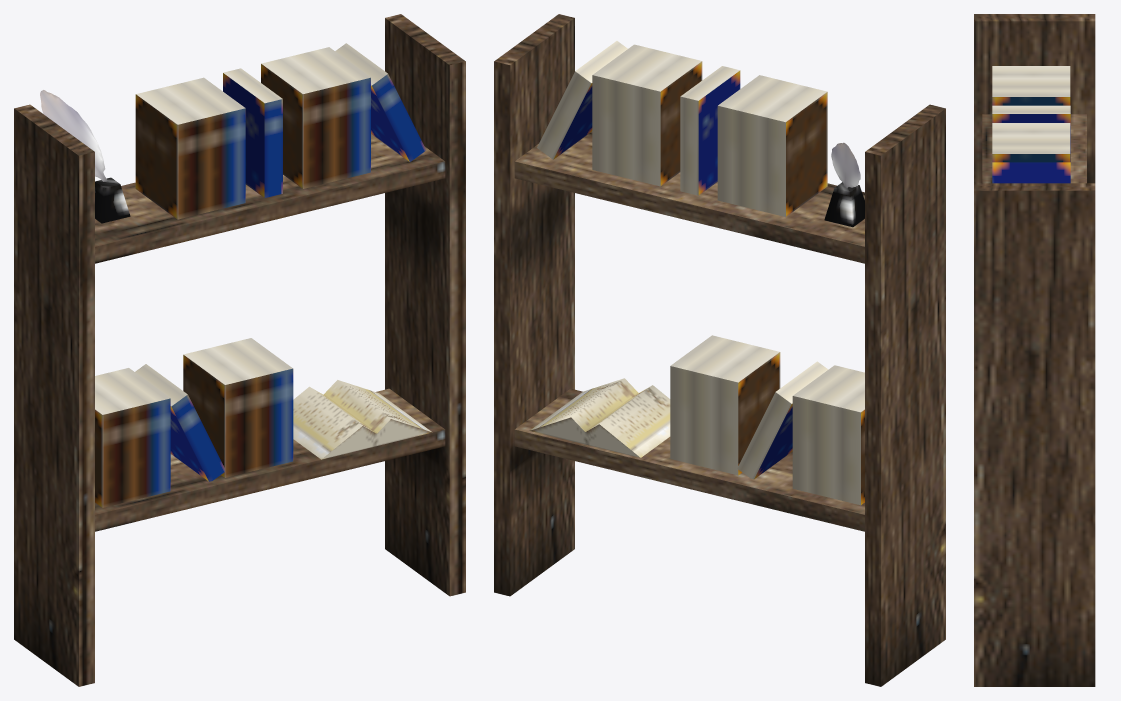
3 views of the same model, side by side, from view 1: azimuth 30°, elevation 25°; view 2: azimuth 150°, elevation 25°; view 3: azimuth 270°, elevation 25° (orthographic). The views are drawn at different scales.
Parts seen in each view (by area): view 1: a96; view 2: a96; view 3: a96.
Part boxes in pixels (<box>): a96: <box>14,14,465,686</box>; a96: <box>494,14,945,686</box>; a96: <box>974,14,1095,686</box>.
Bounding box in the file's own units: 407 × 554 × 129.
